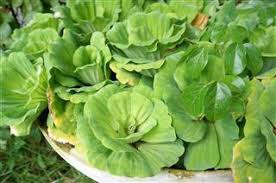water_hyacinth: (0, 0, 276, 183)
